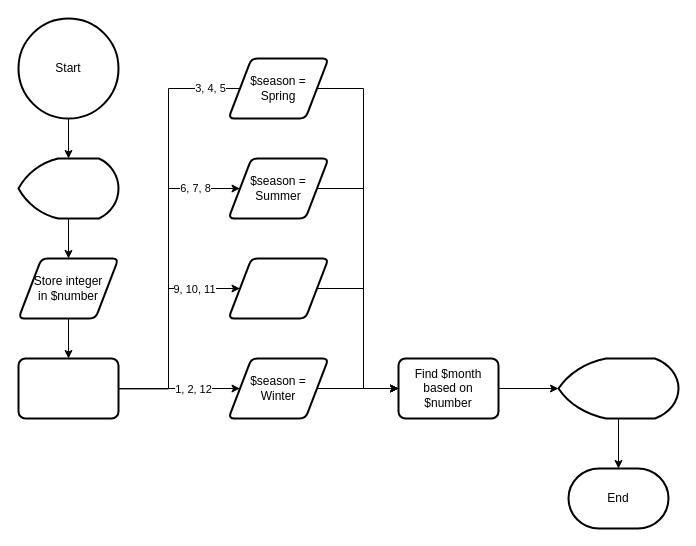
Image size: 696x546. Some labels were removed from this diagram. Each missing label, with the centre of its shape:
"$season = Fall" belongs at point 278,288.
"Display current month and season" belongs at point 618,388.
"Find if $number is within range for which season" belongs at point 68,388.
"Prompt user for number 1-12" belongs at point 68,188.
